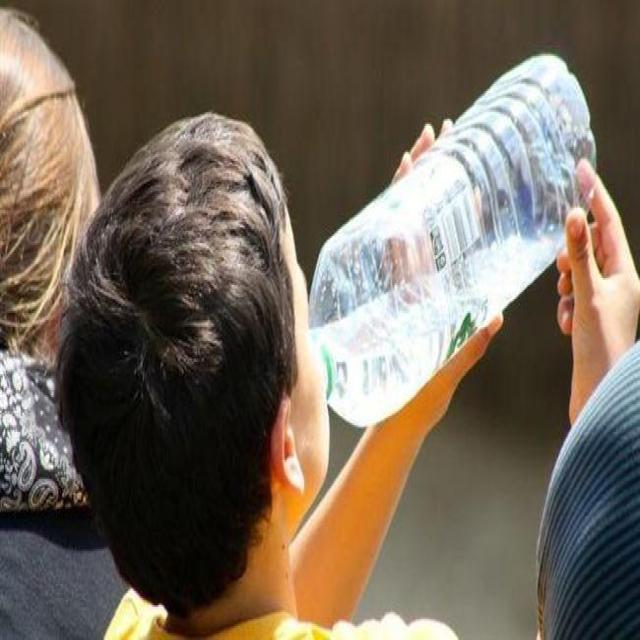bottle: (304, 40, 600, 434)
